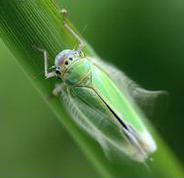pest: (52, 48, 158, 163)
